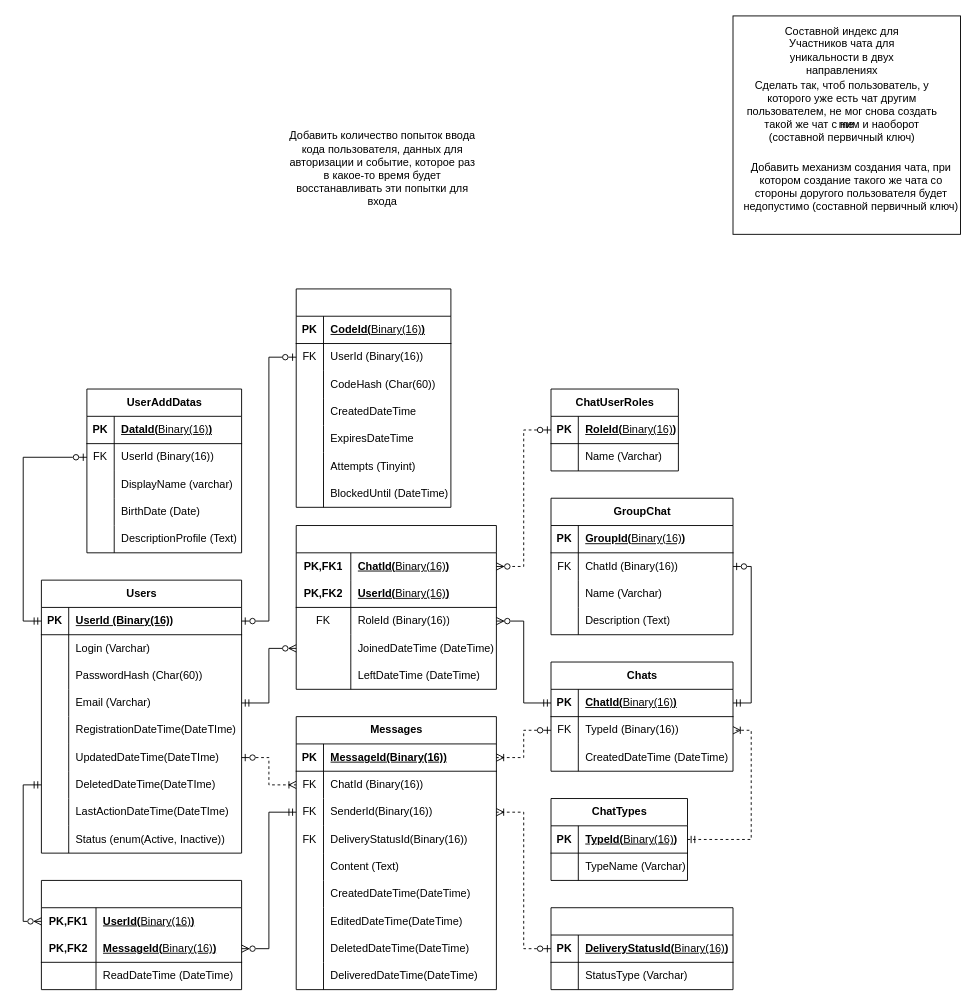
Image size: 976x1006. Some labels were removed from this diagram. Each missing label, with the box of its shape:
ChatUsers: (295, 525, 496, 689)
MessageDeliveryStatus: (550, 907, 733, 990)
MessageReadStatus: (40, 880, 242, 990)
UserAuthCode: (295, 288, 451, 507)
